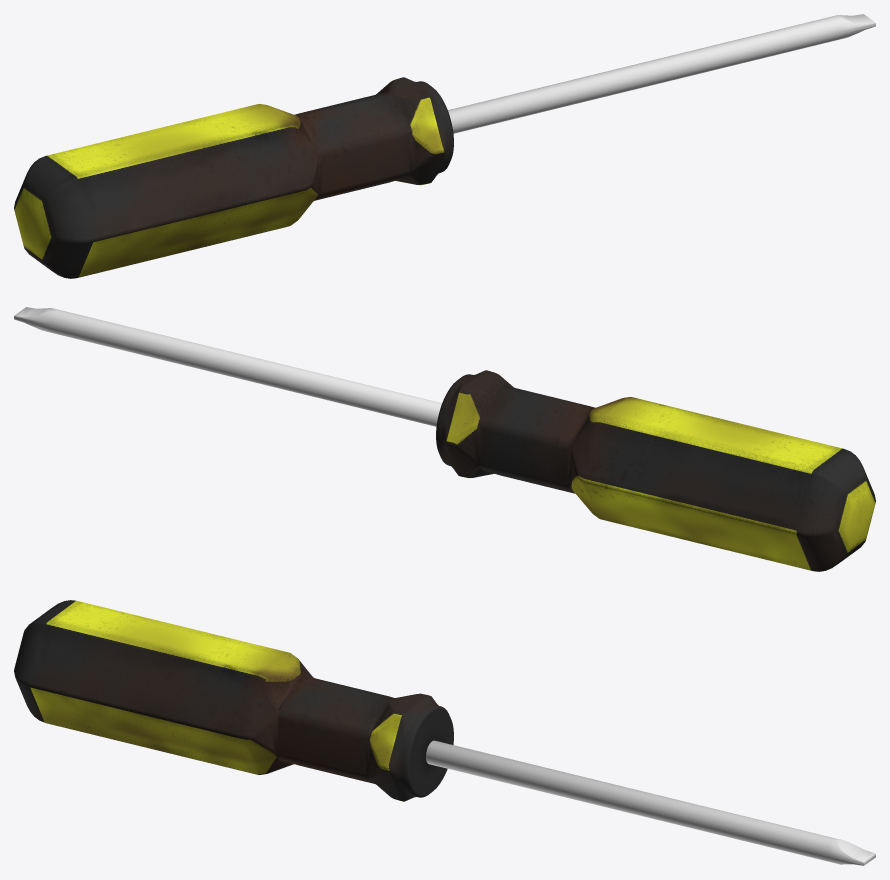
The model's file is screwdriver.fbx.
The picture shows the model from 3 angles, top to bottom: view 1: azimuth 30°, elevation 25°; view 2: azimuth 150°, elevation 25°; view 3: azimuth 330°, elevation 25°; orthographic projection.
Parts seen in each view (by area): view 1: Cylinder, Cylinder.001; view 2: Cylinder, Cylinder.001; view 3: Cylinder, Cylinder.001.
Part boxes in pixels (x1=…): Cylinder: x1=14, y1=77, x2=453, y2=278; Cylinder.001: x1=448, y1=14, x2=875, y2=133; Cylinder: x1=436, y1=370, x2=875, y2=571; Cylinder.001: x1=14, y1=307, x2=441, y2=426; Cylinder: x1=14, y1=600, x2=453, y2=801; Cylinder.001: x1=426, y1=740, x2=875, y2=865.
Bounding box in the file's own units: 37.43 × 4.31 × 4.86.
